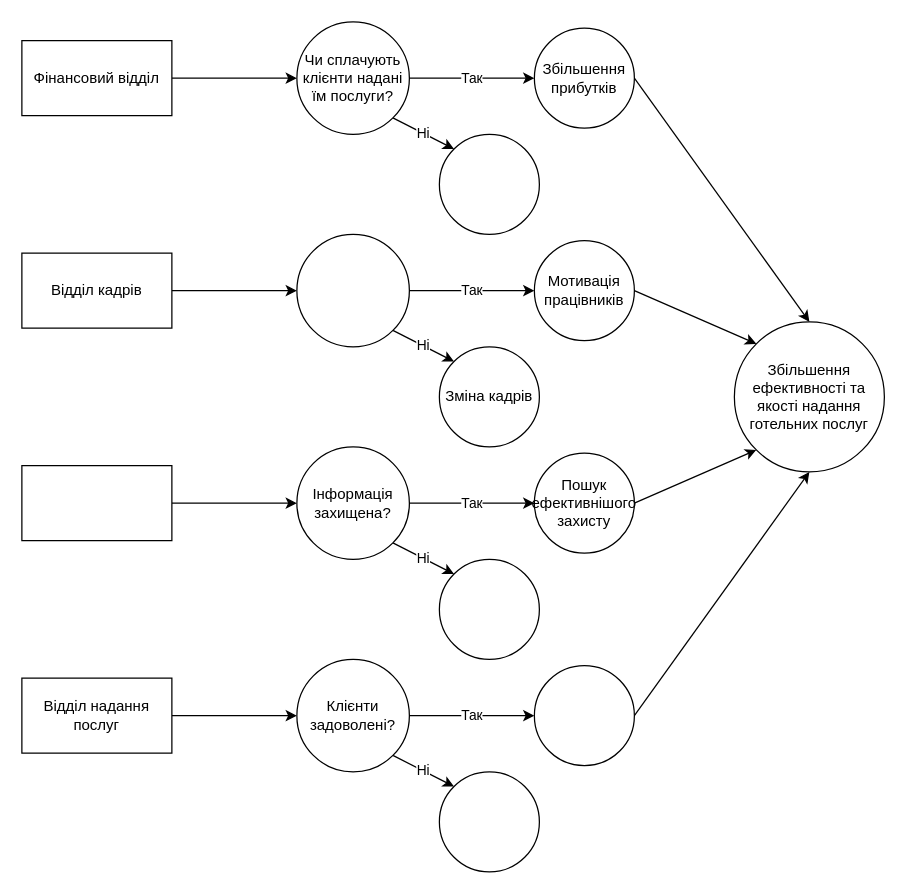
The diagram is 906 pixels wide and 894 high, and some of its shapes have lost their labels. The shapes that lost their labels are listed below. From the top down, each one's centre as x and y in pixels, then its label:
At [488,183]: "Виклик відповідних служб".
At [352,290]: "Працівники виконують вимоги?".
At [96,502]: "Відділ безпеки".
At [488,608]: "Покращення захисту".
At [583,715]: "Збільшення клієнтів".
At [488,821]: "Покращення якості послуг".
